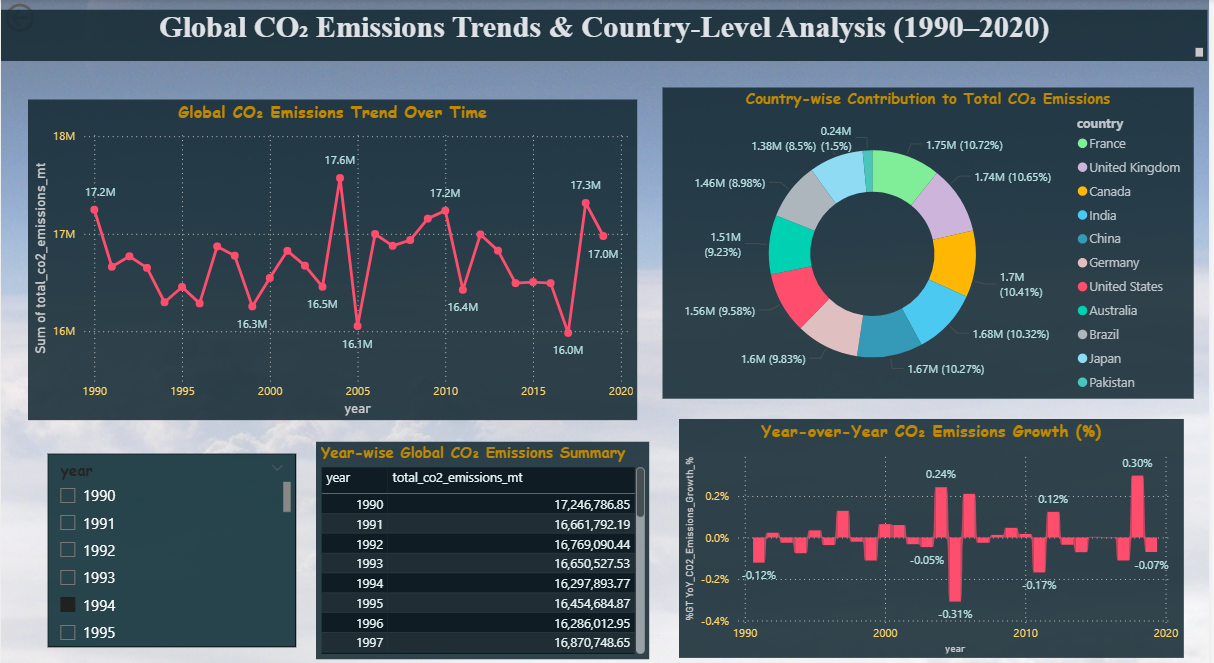

What the dashboard file says about the page in this screenshot:
{"tool":"powerbi","page":{"name":"Co2 Emissions Trend","canvas":[1280,720],"ordinal":0},"visuals":[{"type":"lineChart","title":"Global CO₂ Emissions Trend Over Time","fields":{"Category":["gold_global_yoy_emissions.year"],"Y":["Sum(gold_global_yoy_emissions.total_co2_emissions_mt)"]},"box":[28.3,105.8,646.3,340.2],"z":0},{"type":"donutChart","title":"Country-wise Contribution to Total CO₂ Emissions","fields":{"Category":["gold_country_yearly_emissions.country"],"Y":["Sum(gold_country_yearly_emissions.total_co2_emissions_mt)"]},"box":[701.7,93.3,563.3,330],"z":1000},{"type":"actionButton","box":[0,0,100,40],"z":2000},{"type":"tableEx","title":"Year-wise Global CO₂ Emissions Summary","fields":{"Values":["gold_global_yoy_emissions.year","gold_global_yoy_emissions.total_co2_emissions_mt"]},"box":[334.5,468.7,353.4,230.6],"z":3000},{"type":"columnChart","title":"Year-over-Year CO₂ Emissions Growth (%)","fields":{"Y":["gold_country_yearly_emissions.YoY_CO2_Emissions_Growth_%"],"Category":["gold_global_yoy_emissions.year"]},"box":[718.3,445,535,253.3],"z":4000},{"type":"textbox","title":"Global CO₂ Emissions Trends & Country-Level Analysis (1990–2020)","box":[0,11.3,1279.4,54.8],"z":5000},{"type":"slicer","fields":{"Values":["gold_country_yearly_emissions.year"]},"box":[50,481.7,263.3,205],"z":6000}]}

Visuals, with their boxes in screenshot pixels (x1, y1, x2, y2), scaled from the page's 1280x720 canvas onto the 1214x663 screenshot:
"Global CO₂ Emissions Trend Over Time" lineChart: {"x1": 27, "y1": 97, "x2": 640, "y2": 411}
"Country-wise Contribution to Total CO₂ Emissions" donutChart: {"x1": 666, "y1": 86, "x2": 1200, "y2": 390}
actionButton: {"x1": 0, "y1": 0, "x2": 95, "y2": 37}
"Year-wise Global CO₂ Emissions Summary" tableEx: {"x1": 317, "y1": 432, "x2": 652, "y2": 644}
"Year-over-Year CO₂ Emissions Growth (%)" columnChart: {"x1": 681, "y1": 410, "x2": 1189, "y2": 643}
"Global CO₂ Emissions Trends & Country-Level Analysis (1990–2020)" textbox: {"x1": 0, "y1": 10, "x2": 1213, "y2": 61}
slicer - gold_country_yearly_emissions.year: {"x1": 47, "y1": 444, "x2": 297, "y2": 632}
